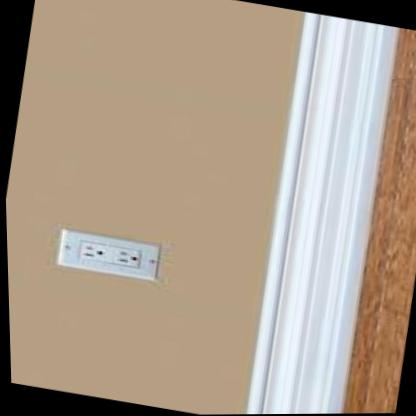OUTLET: (52, 229, 162, 283)
